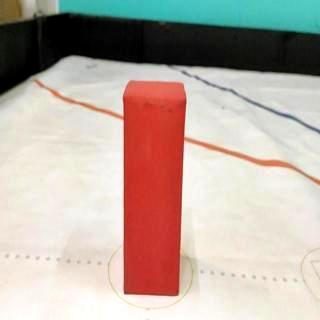redbox: (125, 80, 182, 294)
